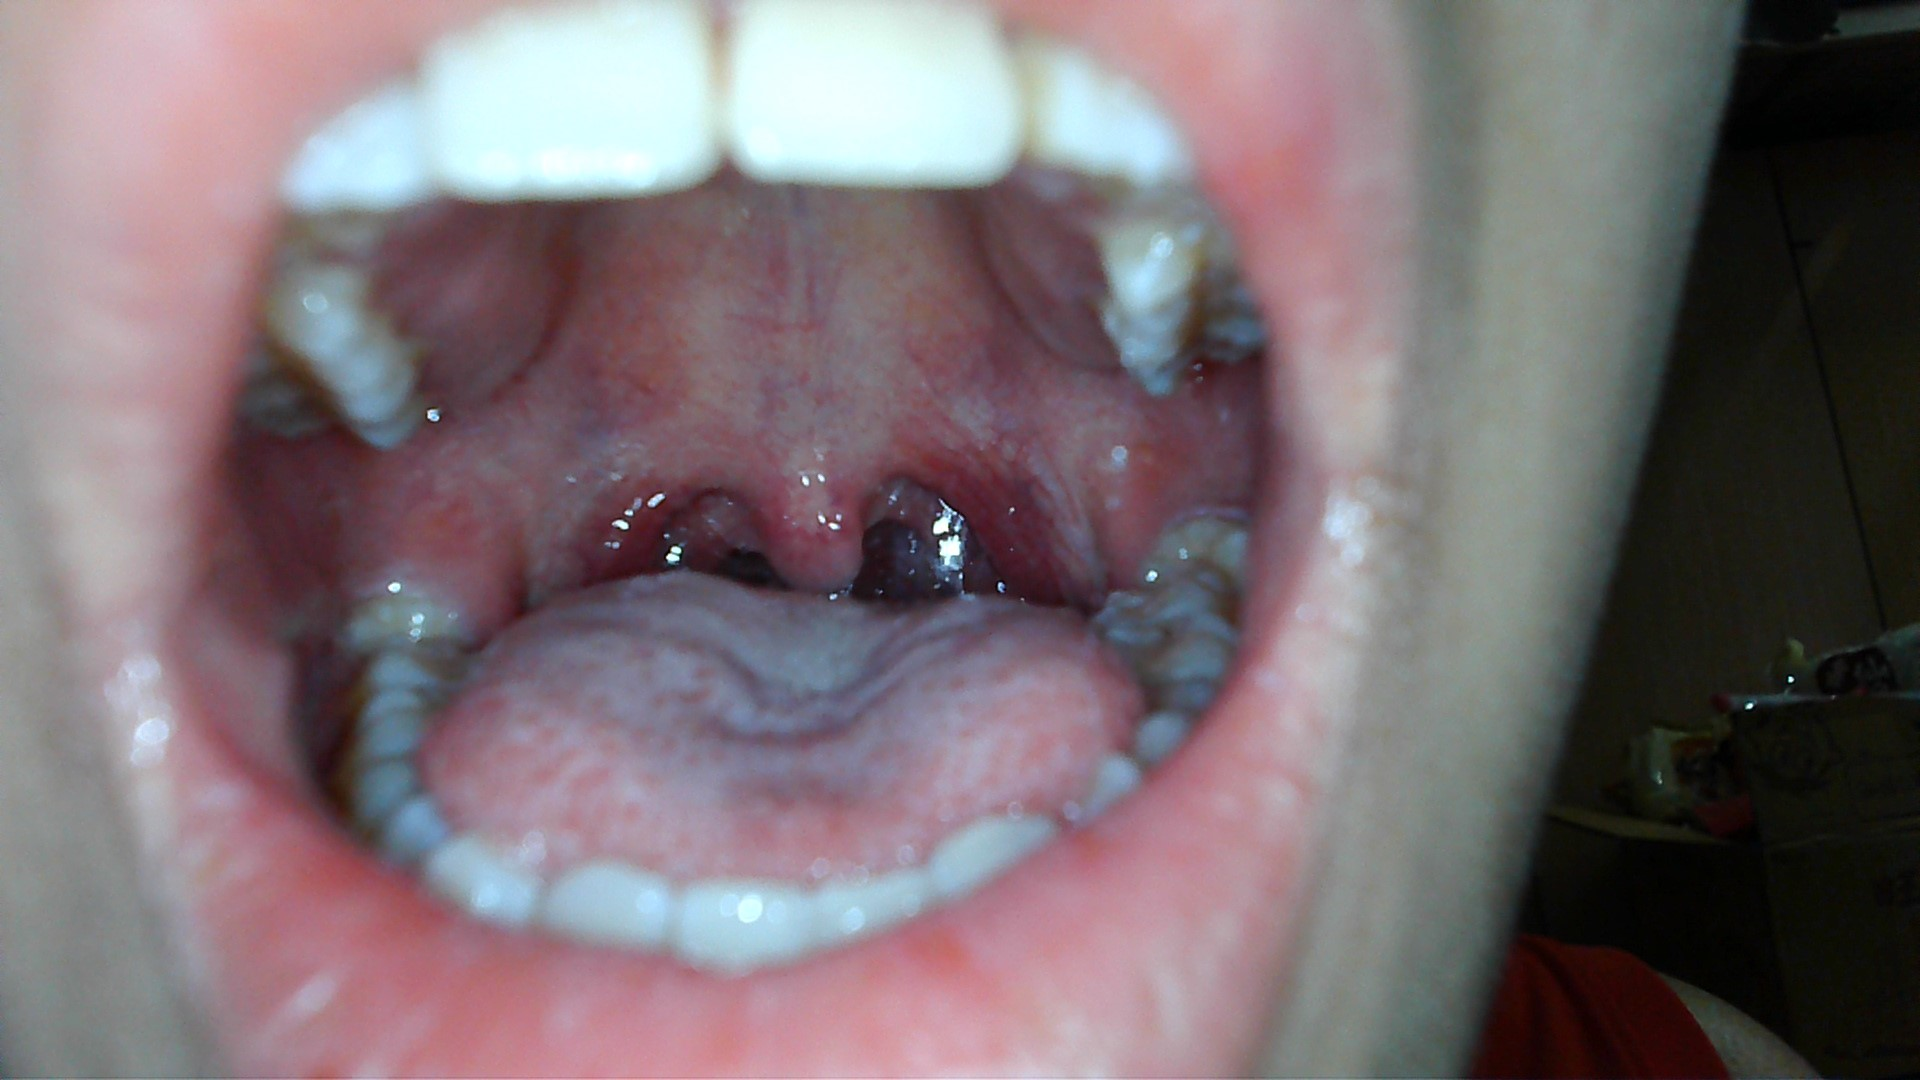throat: (930, 392, 1062, 592), (558, 419, 690, 572)
